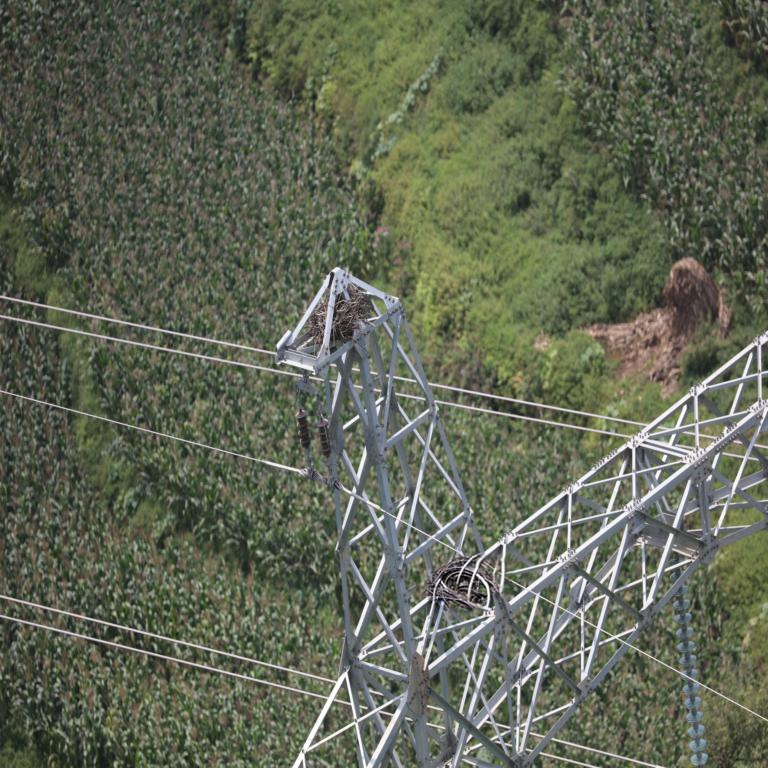nest: (431, 558, 494, 611), (318, 295, 372, 346)
